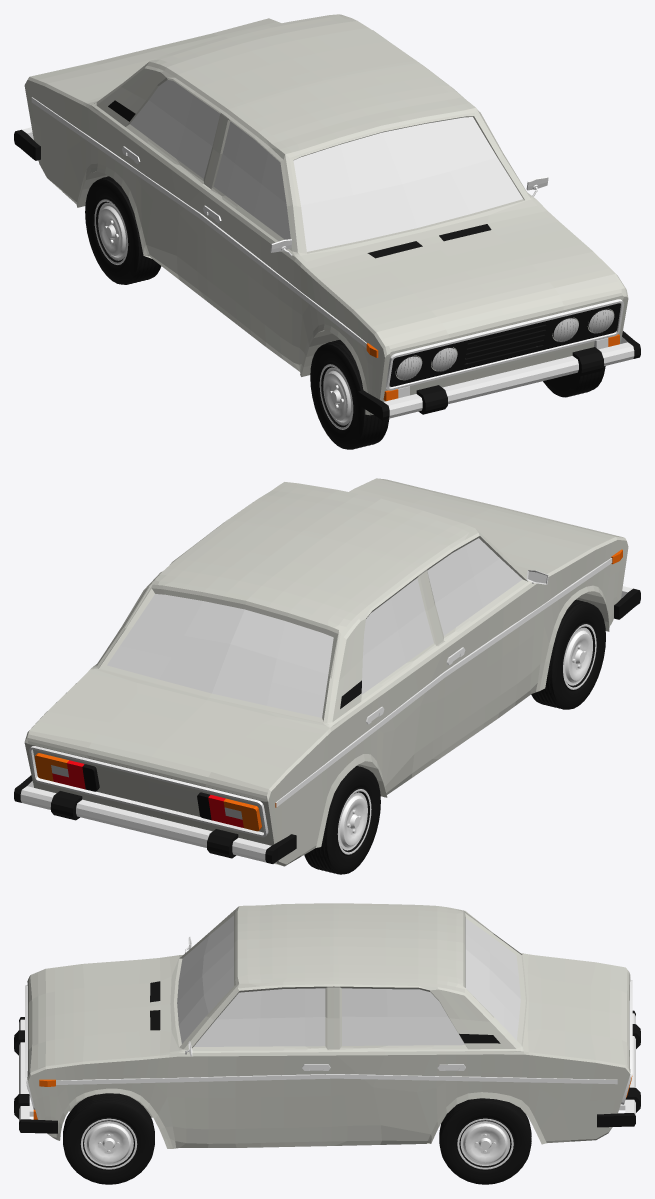
3 renders of one model, top to bottom at view 1: azimuth 30°, elevation 25°; view 2: azimuth 150°, elevation 25°; view 3: azimuth 270°, elevation 25°, orthographic. The views are drawn at different scales.
Visible parts, largest first — view 1: Куб.011; view 2: Куб.011; view 3: Куб.011.
Part boxes in pixels (x1,y1,x2,y2): Куб.011: (14,14,640,449); Куб.011: (14,478,640,874); Куб.011: (14,903,640,1184).
Size of the model in its own units: 81.79 by 67.43 by 192.
